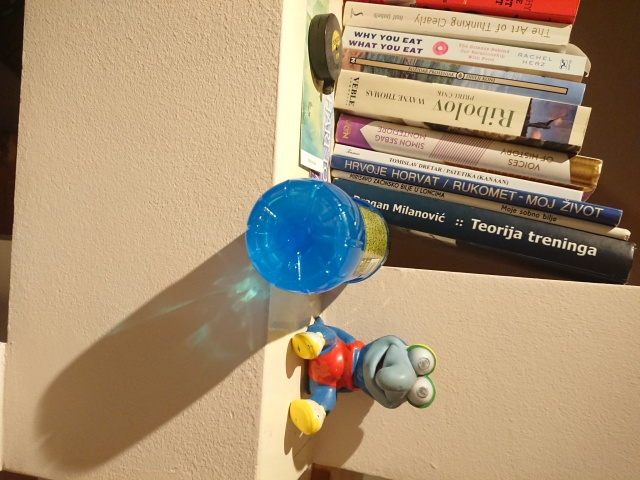Vindi Iso Sport Forest Strawberries 500mL: (243, 175, 393, 297)
